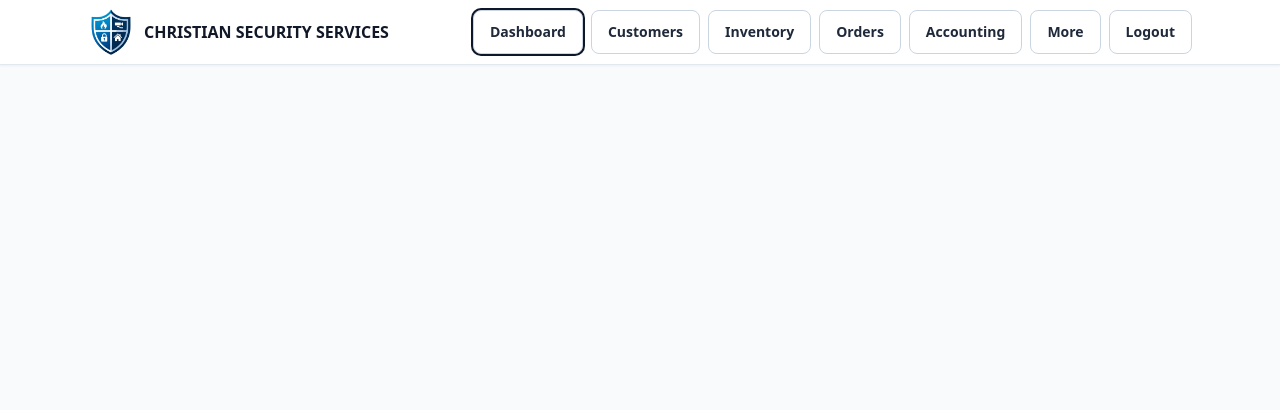
Scenario: StaffNav › closes More when a destination is chosen
The image size is (1280, 410).
Click the button "More". click: [1066, 32]
box: [1030,10,1101,54]
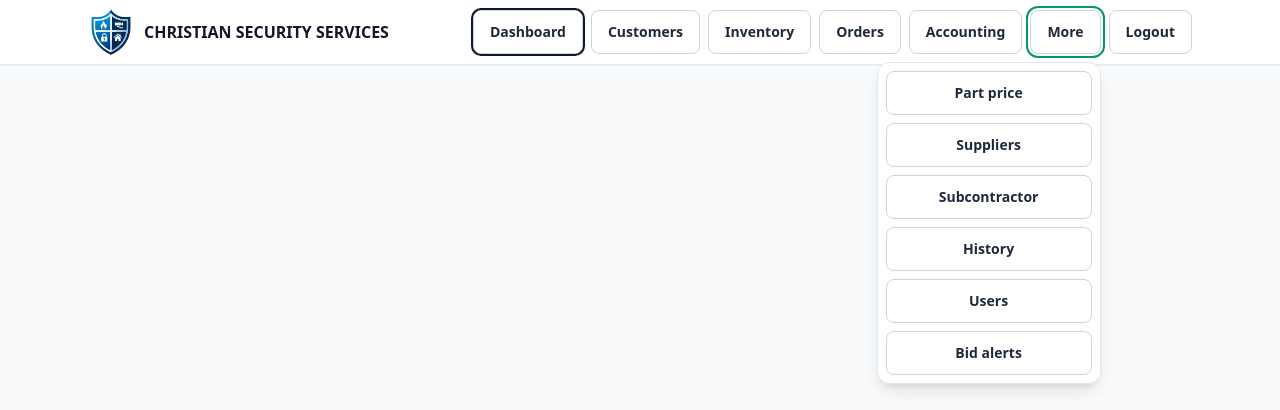
Click the link "Users". click: [989, 301]
box: [886,279,1092,323]
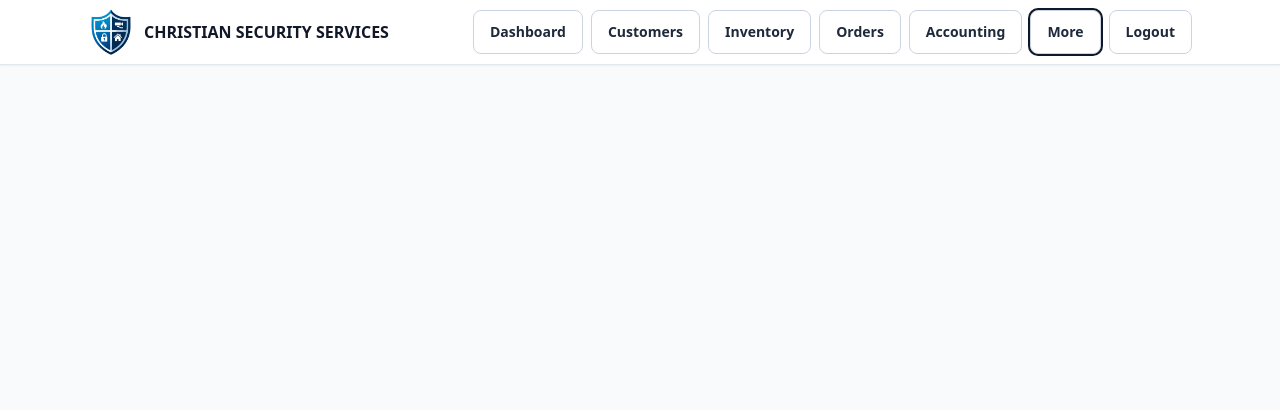
Now the link "Users" is gone
